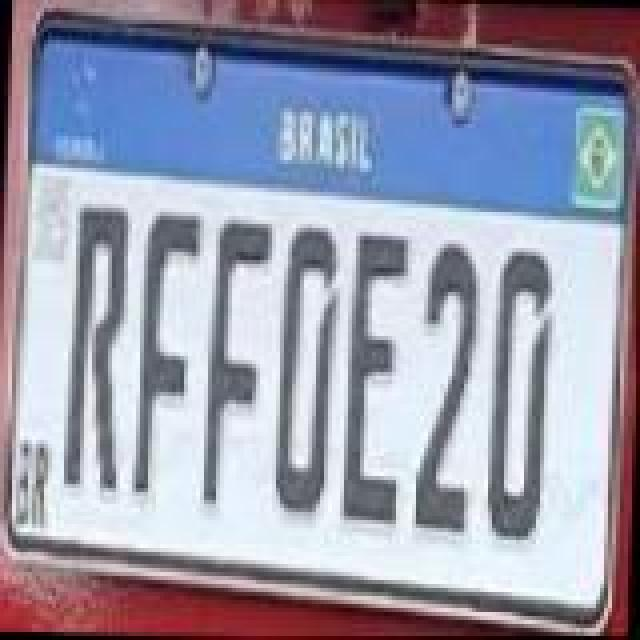2: (408, 238, 480, 534)
D: (484, 248, 556, 544), (270, 224, 338, 516)
E: (338, 228, 406, 524)
F: (128, 208, 200, 500), (202, 214, 270, 506)
R: (60, 198, 128, 490)
